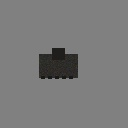armoured_vehicle: (39, 54, 78, 78)
